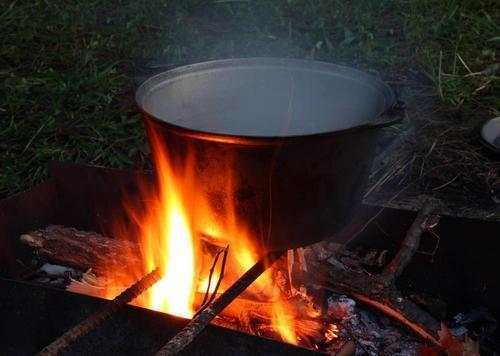fire: (86, 107, 340, 349)
